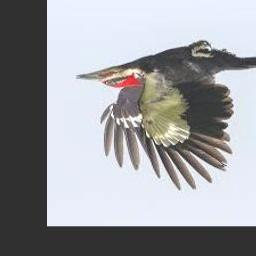Woodpecker: (74, 40, 256, 191)
